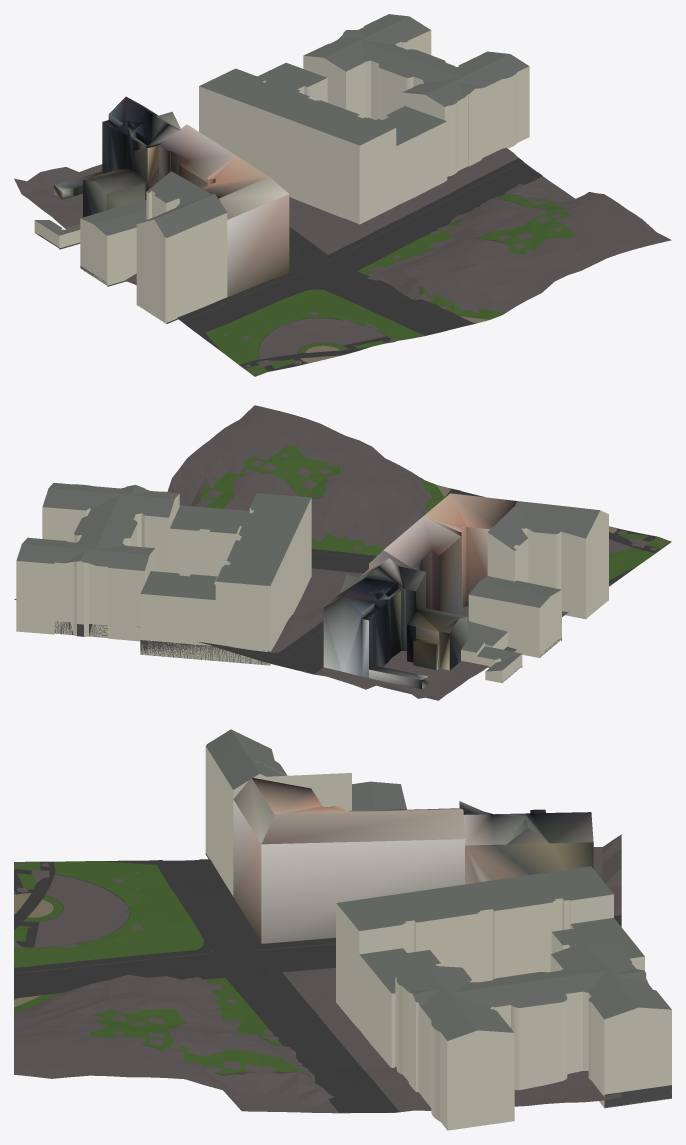
The picture shows the model from 3 angles, top to bottom: view 1: azimuth 30°, elevation 25°; view 2: azimuth 150°, elevation 25°; view 3: azimuth 270°, elevation 25°; orthographic projection. The views are drawn at different scales.
Parts seen in each view (by area): view 1: c_m02_p08; view 2: c_m02_p08; view 3: c_m02_p08.
Boxes of the visible parts, x1,y1,x2,y2 form: c_m02_p08: [14, 14, 671, 376]; c_m02_p08: [14, 405, 671, 700]; c_m02_p08: [14, 729, 671, 1130].
Bounding box in the file's own units: 145 × 29.77 × 139.
